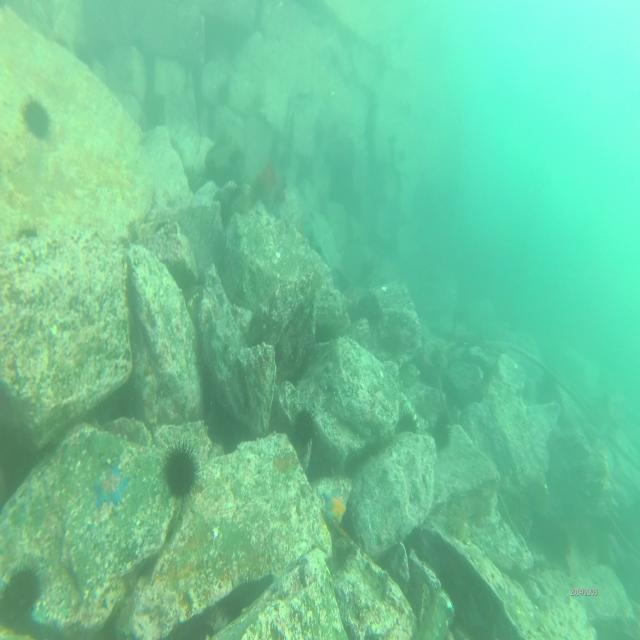echinus: (159, 438, 203, 504), (5, 560, 44, 626), (20, 94, 54, 140), (522, 477, 554, 523), (289, 404, 318, 452), (446, 500, 468, 544), (430, 412, 453, 452), (396, 404, 418, 443), (148, 93, 166, 129), (15, 222, 38, 249), (227, 146, 243, 174)
starfish: (95, 462, 130, 511), (322, 486, 348, 529)
